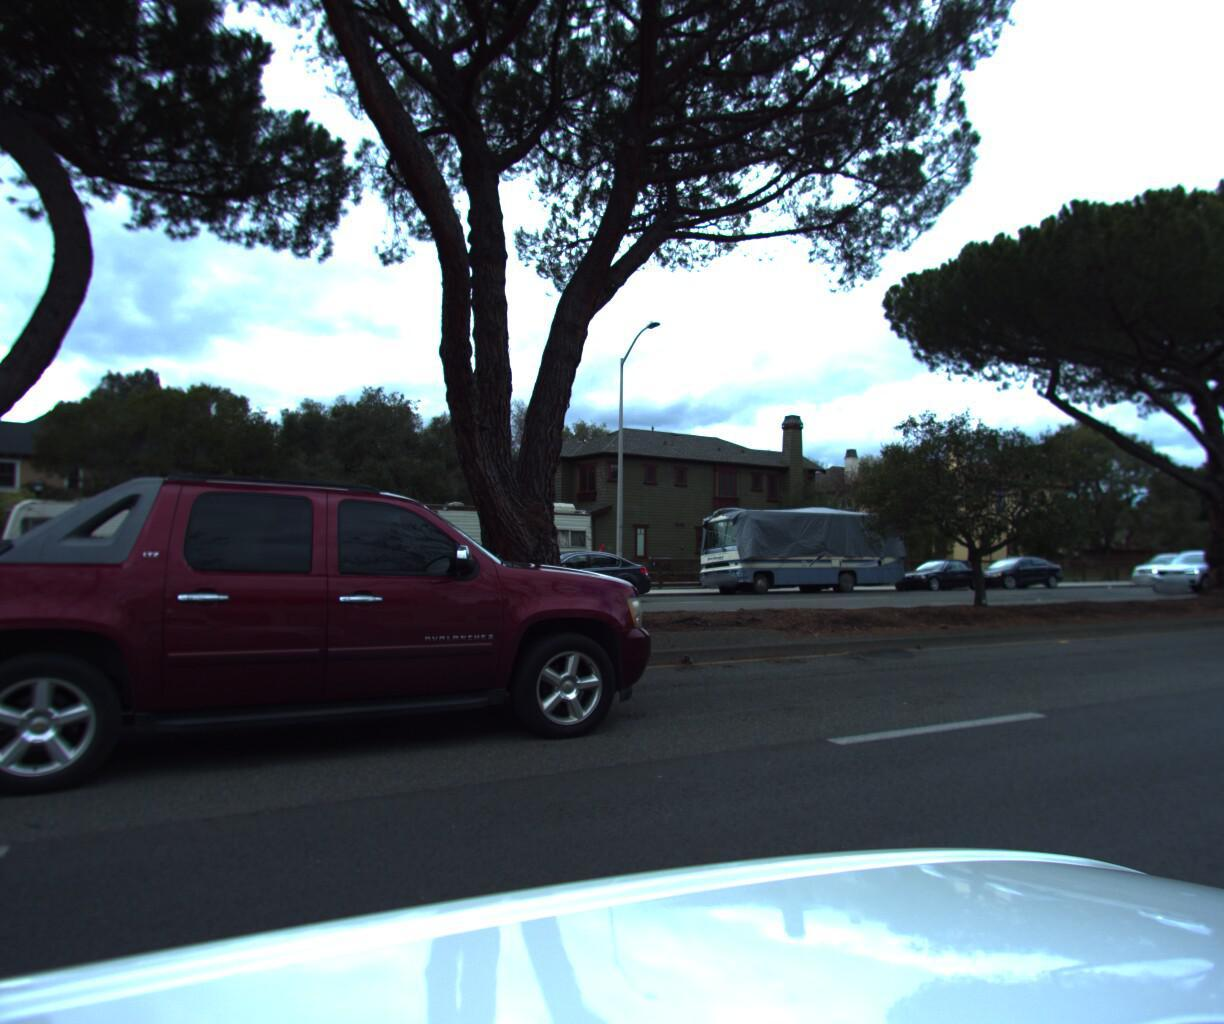car: (0, 432, 681, 833), (501, 539, 678, 603), (1133, 551, 1224, 599), (957, 559, 1062, 595), (883, 563, 987, 598), (1113, 555, 1208, 592), (1186, 557, 1224, 589)
other_vehicle: (0, 483, 367, 625), (349, 495, 602, 612), (684, 506, 910, 601)
